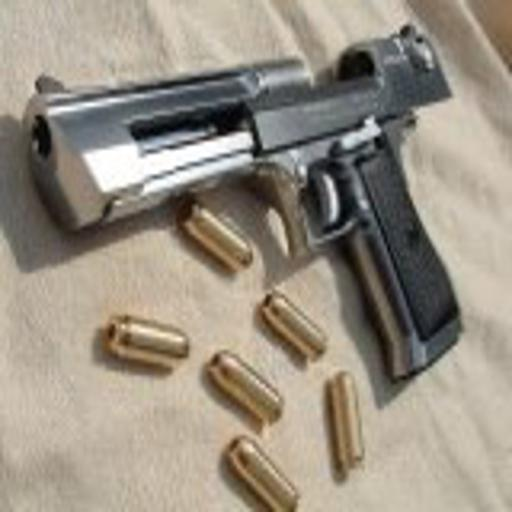Handgun: (21, 24, 463, 387)
